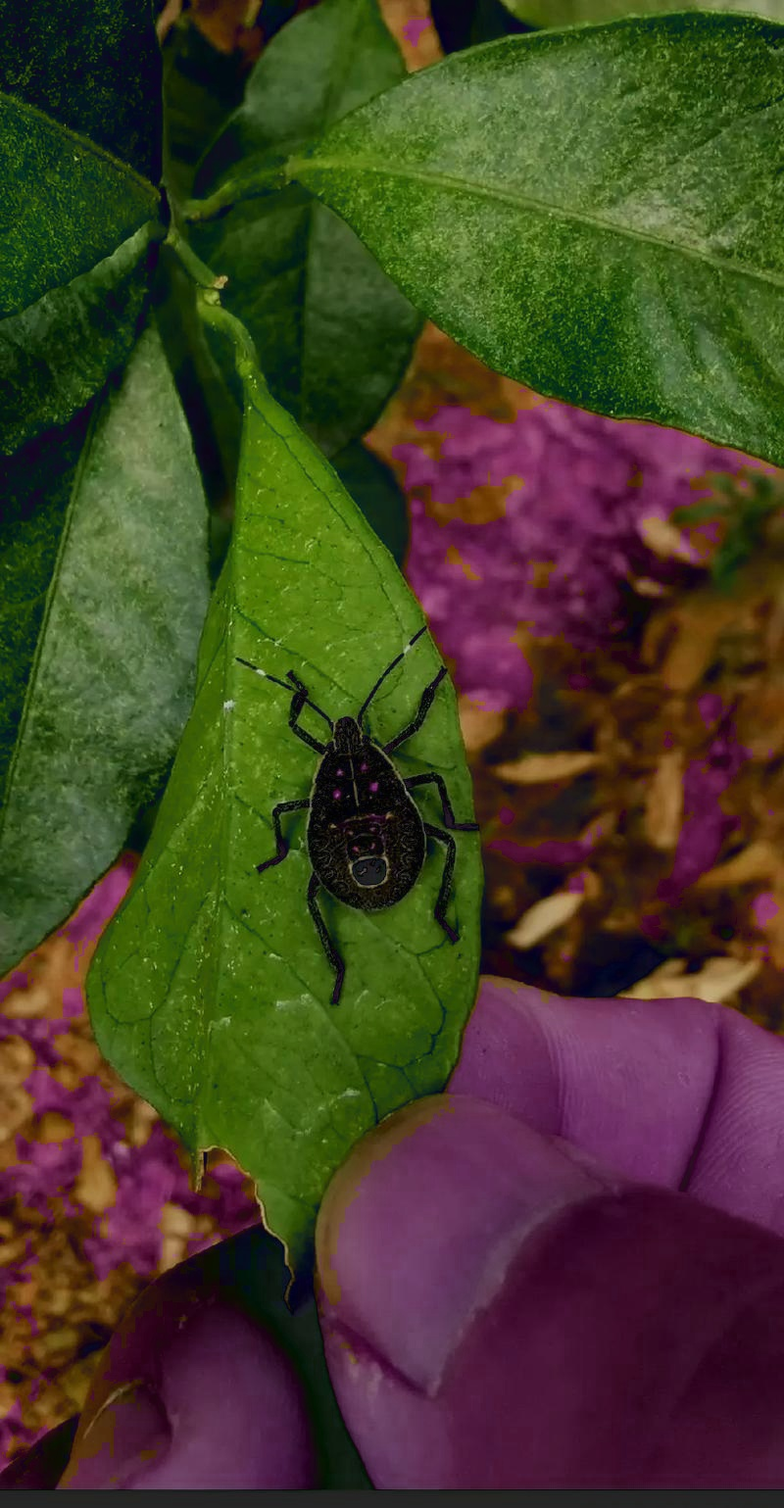Stink_Bug: (244, 621, 451, 895)
